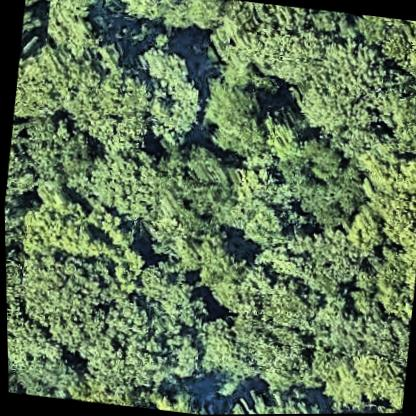tree-top: (213, 268, 322, 390), (74, 291, 197, 394), (301, 37, 395, 140), (10, 35, 105, 133), (217, 0, 321, 88), (13, 242, 102, 343), (152, 144, 239, 238), (18, 106, 104, 201), (18, 192, 130, 262), (284, 143, 369, 230), (223, 160, 300, 248), (196, 70, 271, 154), (357, 147, 416, 253), (285, 226, 364, 302), (322, 304, 411, 367), (131, 259, 209, 330), (70, 141, 149, 211), (363, 235, 416, 328), (115, 0, 230, 37), (131, 34, 196, 95), (341, 356, 405, 414), (361, 16, 416, 80), (186, 311, 237, 376), (9, 353, 75, 400), (235, 382, 327, 415), (136, 382, 210, 415), (385, 91, 416, 159), (386, 24, 416, 93), (17, 0, 47, 55), (320, 403, 395, 414), (6, 347, 14, 392)
